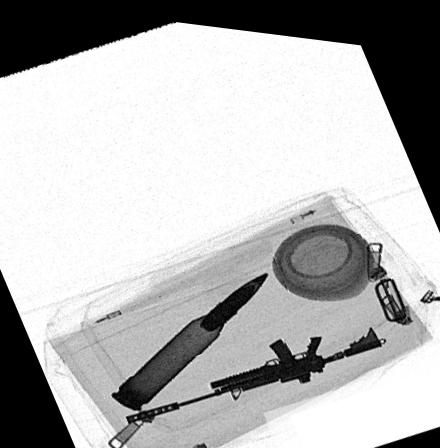Bullet: (109, 266, 269, 409)
Gun: (125, 317, 383, 420)
